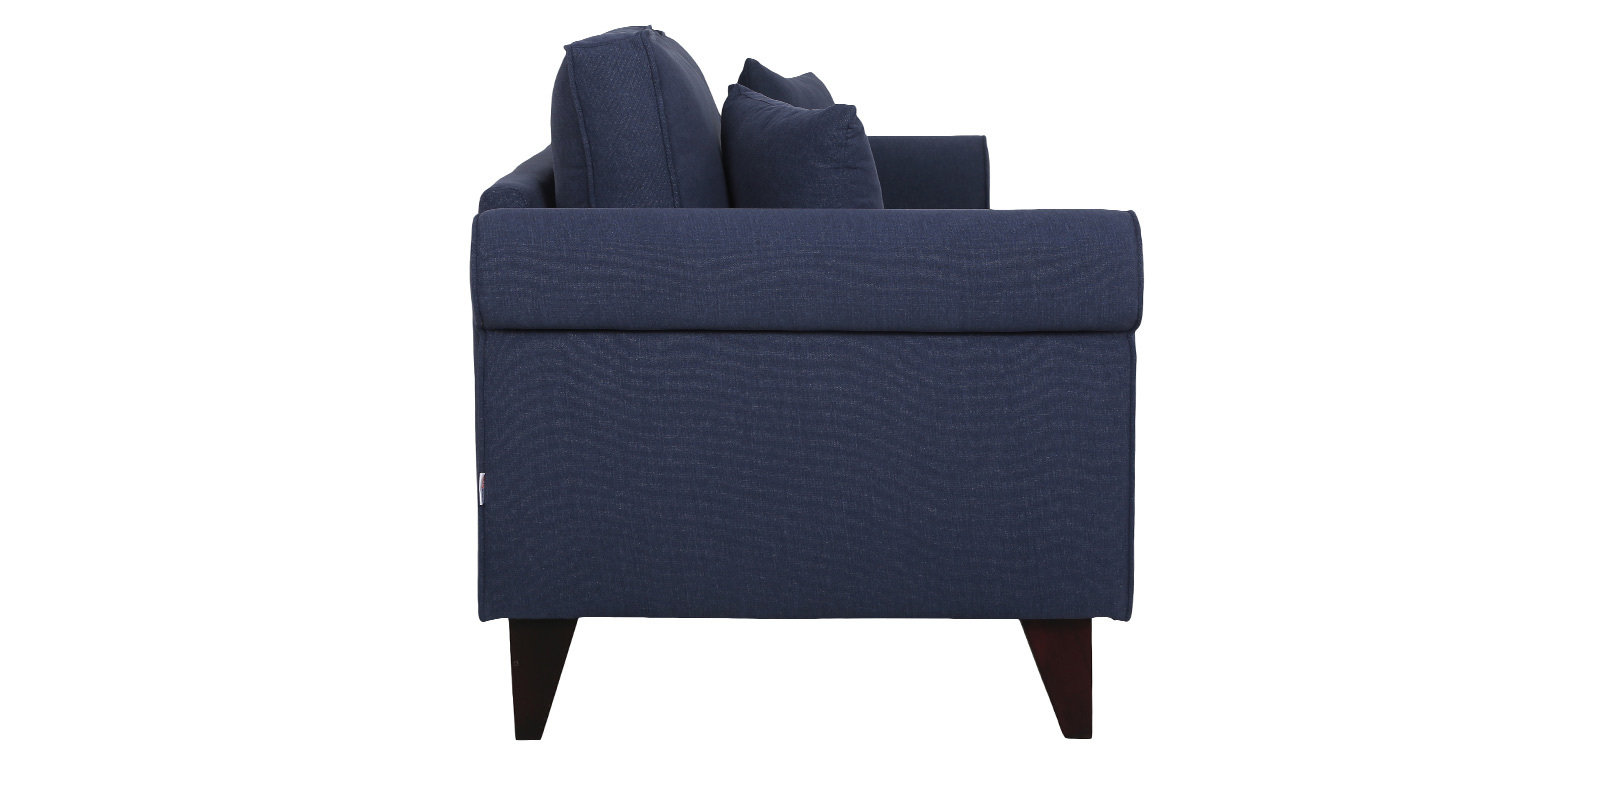Fuego Three Seater Sofa in Navy Blue Colour by CasaCraft: (457, 10, 1162, 768)
